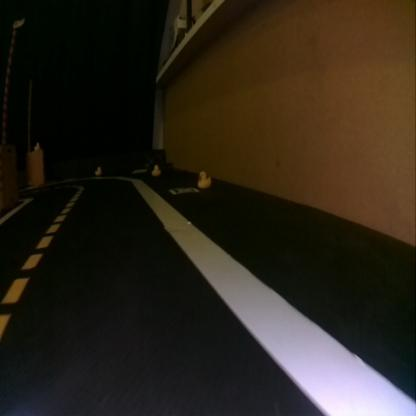Duckie: (197, 171, 209, 187), (152, 165, 159, 173), (35, 141, 40, 149), (96, 166, 100, 174)
QR code: (168, 186, 197, 192), (135, 166, 146, 174)
